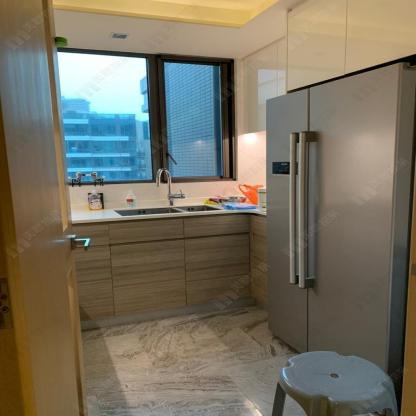Faucet: (151, 166, 186, 206)
Fridge: (265, 63, 415, 414)
Sink: (106, 202, 232, 218)
